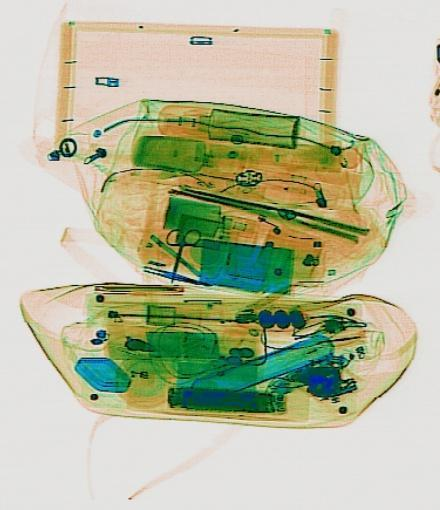Scissors: (154, 221, 201, 286)
